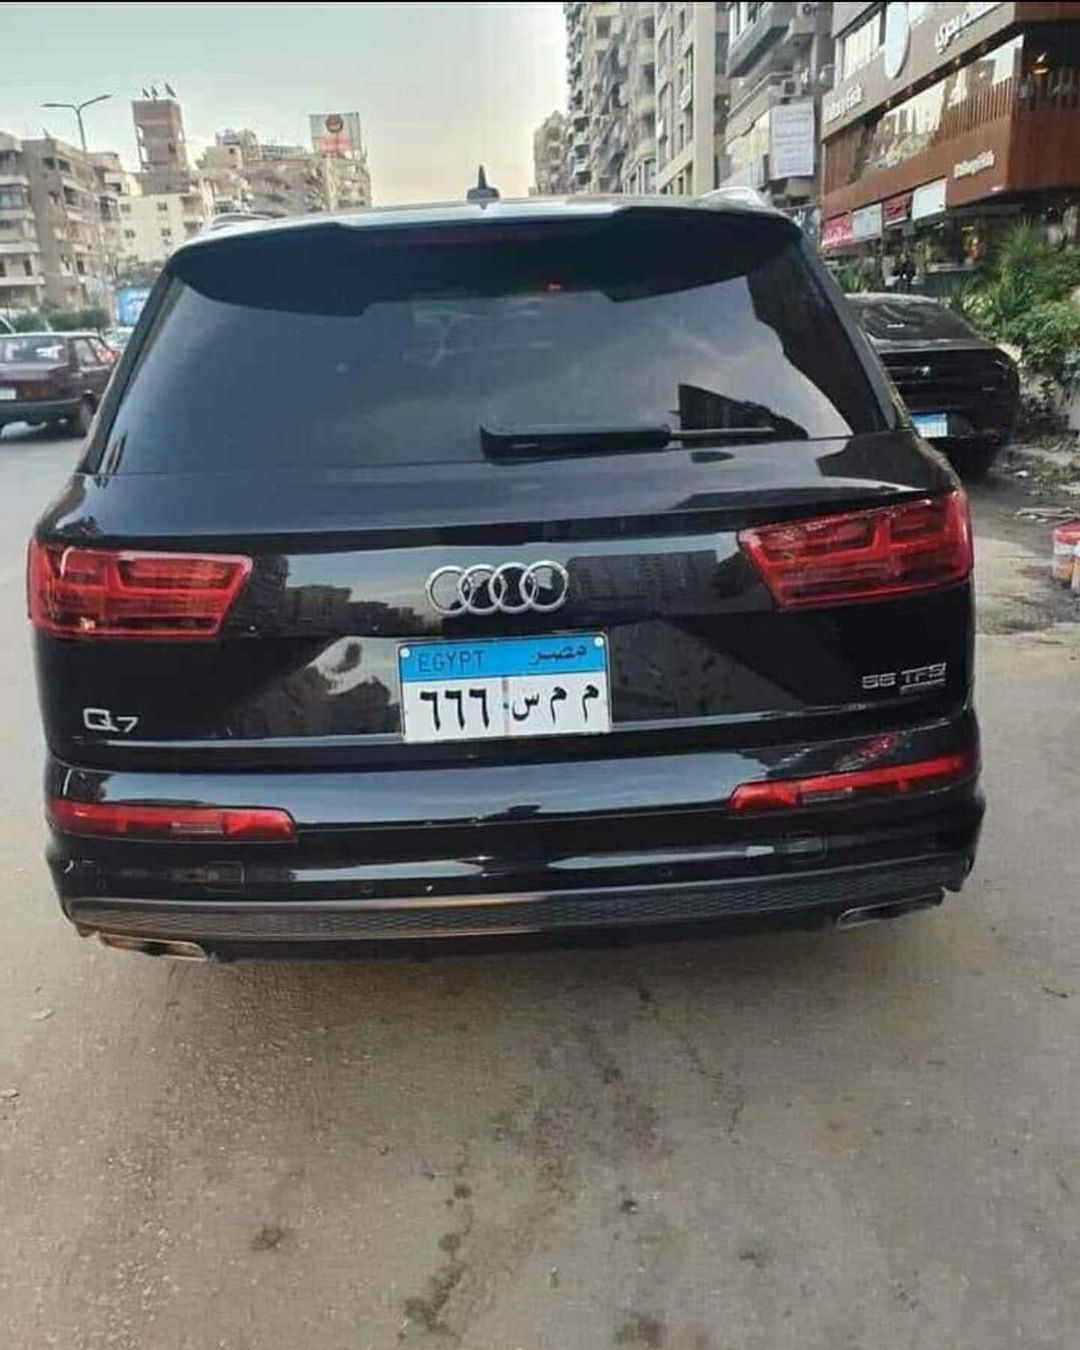carpl: (378, 628, 648, 743)
